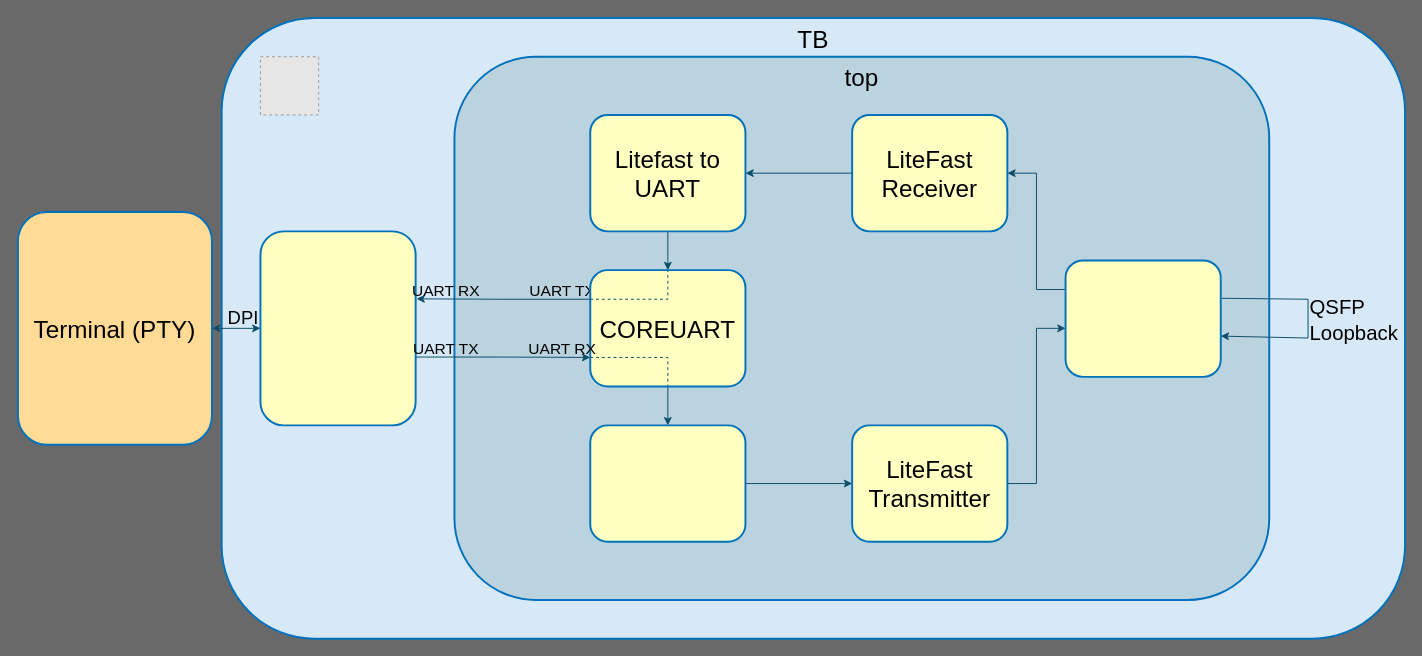
Some shapes in this 1422 by 656 pixel diagram are drawn without their labels. Grey dashed boxes stand in for pictures. Each missing label, with the centre of its shape:
"dpi_uart" belongs at point 337,328.
"Transceiver" belongs at point 1142,318.
"UART to LiteFast" belongs at point 667,483.
